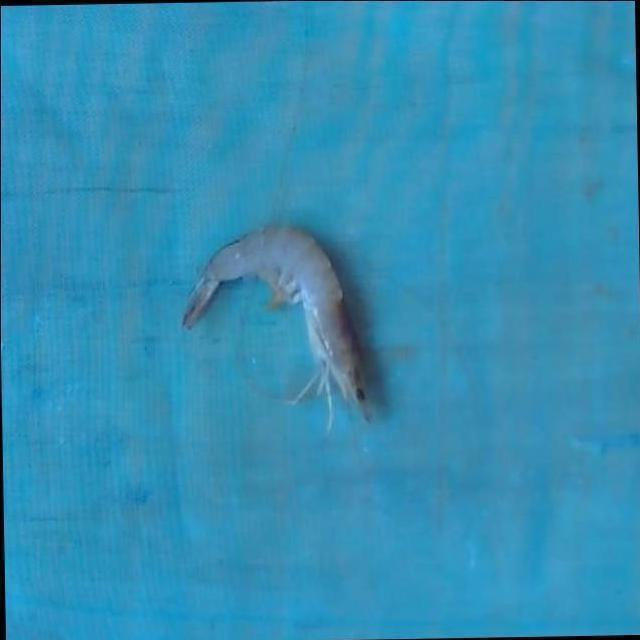shrimp: (182, 226, 367, 421)
